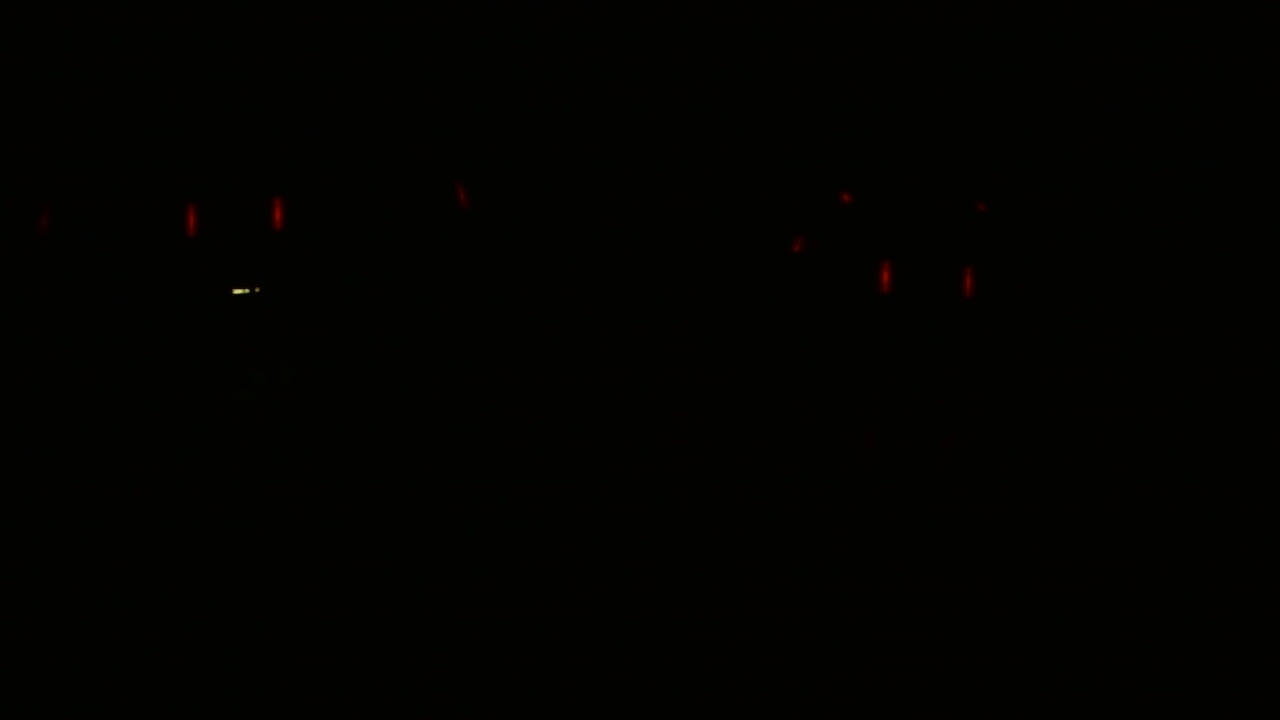pair1: (874, 257, 977, 308), (180, 199, 283, 237)
